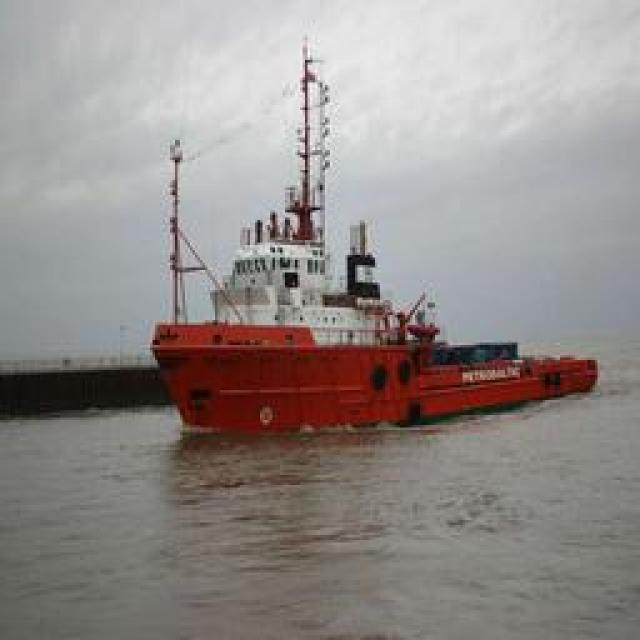ship2: (148, 39, 599, 436)
